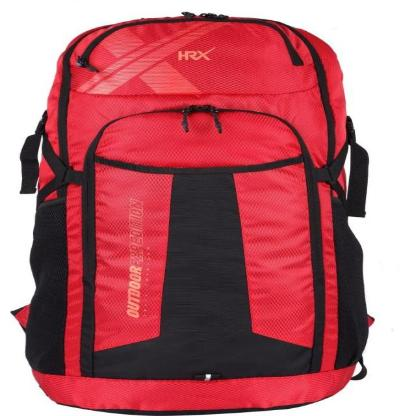bag: (11, 8, 376, 416)
